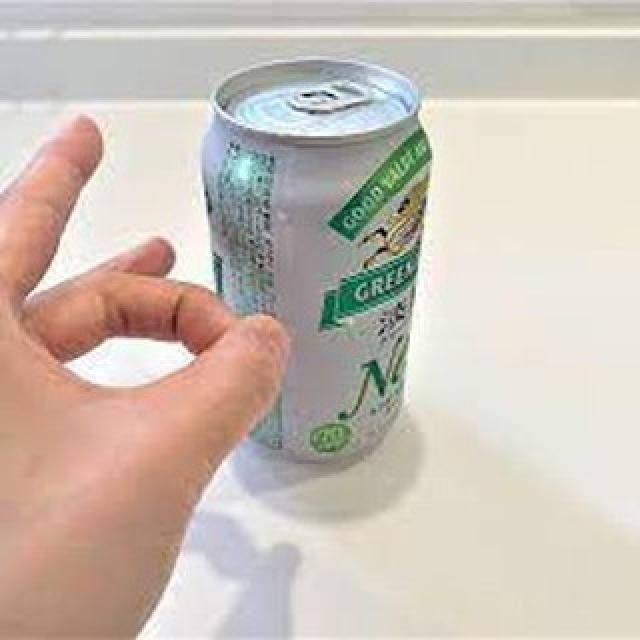can: (200, 58, 433, 475)
